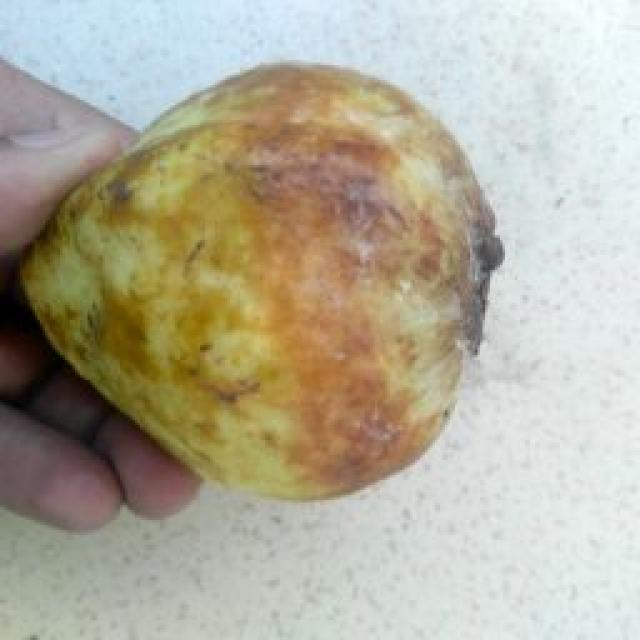Bad_Guava: (21, 64, 501, 498)
